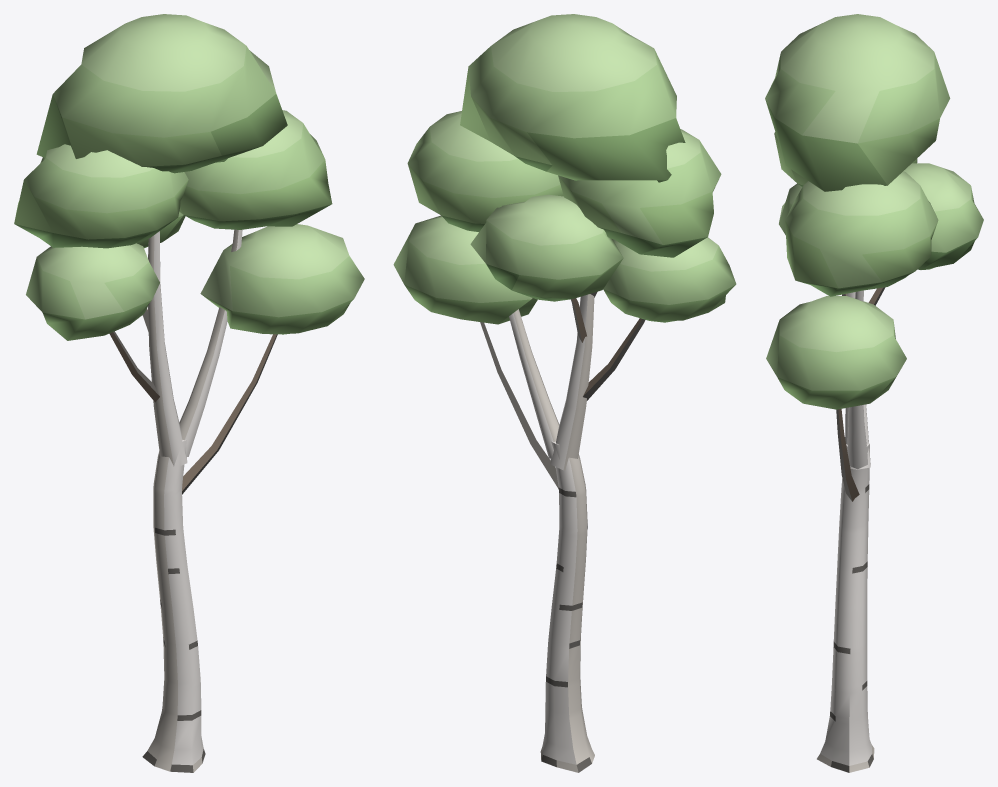
The model's file is birch.glb.
3 renders of one model, left to right at view 1: azimuth 30°, elevation 25°; view 2: azimuth 150°, elevation 25°; view 3: azimuth 270°, elevation 25°, orthographic.
Visible parts, largest first — view 1: Birch_Canopy_01_top, Birch_Canopy_06_low_right, Birch_Canopy_02_left_upper, Birch_Trunk, Birch_Canopy_03_right_upper, Birch_Canopy_05_left_mid, Birch_Branch_01, Birch_Branch_02, Birch_Branch_06, Birch_Branch_04; view 2: Birch_Canopy_01_top, Birch_Canopy_04_back, Birch_Canopy_02_left_upper, Birch_Trunk, Birch_Canopy_03_right_upper, Birch_Canopy_06_low_right, Birch_Canopy_05_left_mid, Birch_Branch_01, Birch_Branch_02, Birch_Branch_06, Birch_Branch_04; view 3: Birch_Canopy_01_top, Birch_Canopy_03_right_upper, Birch_Canopy_06_low_right, Birch_Trunk, Birch_Canopy_04_back, Birch_Branch_02, Birch_Branch_06, Birch_Canopy_05_left_mid, Birch_Branch_01.
Boxes of the visible parts, x1,y1,x2,y2 form: Birch_Canopy_01_top: (36,14,287,173); Birch_Canopy_06_low_right: (200,224,364,334); Birch_Canopy_02_left_upper: (14,144,188,248); Birch_Trunk: (142,440,205,772); Birch_Canopy_03_right_upper: (179,110,332,229); Birch_Canopy_05_left_mid: (26,243,159,340); Birch_Branch_01: (148,231,187,466); Birch_Branch_02: (179,229,242,456); Birch_Branch_06: (182,334,277,494); Birch_Branch_04: (109,331,159,402); Birch_Canopy_01_top: (460,14,685,182); Birch_Canopy_04_back: (470,194,623,301); Birch_Canopy_02_left_upper: (558,129,721,257); Birch_Trunk: (540,441,594,772); Birch_Canopy_03_right_upper: (407,111,563,231); Birch_Canopy_06_low_right: (393,215,537,324); Birch_Canopy_05_left_mid: (603,237,736,322); Birch_Branch_01: (550,294,594,470); Birch_Branch_02: (509,309,559,458); Birch_Branch_06: (480,322,558,488); Birch_Branch_04: (583,318,645,400); Birch_Canopy_01_top: (765,14,950,191); Birch_Canopy_03_right_upper: (785,171,938,296); Birch_Canopy_06_low_right: (766,296,906,409); Birch_Trunk: (817,442,874,772); Birch_Canopy_04_back: (903,163,983,269); Birch_Branch_02: (847,290,867,469); Birch_Branch_06: (836,409,859,501); Birch_Canopy_05_left_mid: (779,183,802,235); Birch_Branch_01: (845,292,870,469).
Bounding box in the file's own units: 4.34 × 9.55 × 2.6.
Materials: 1 (1 with a texture image).
